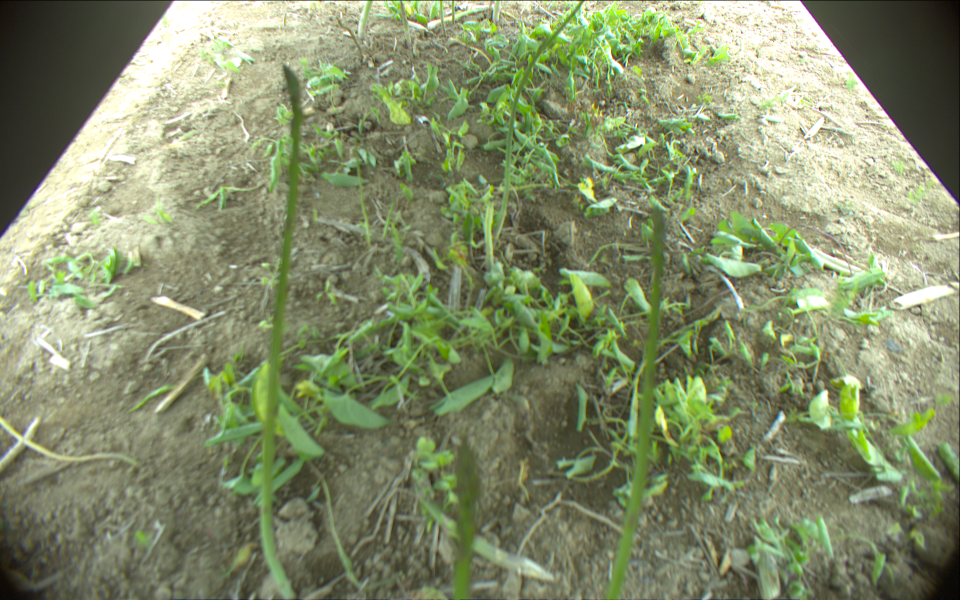aspa: (256, 64, 303, 600), (603, 206, 665, 600), (493, 1, 588, 237), (451, 437, 479, 600), (429, 4, 492, 29), (484, 203, 492, 276), (358, 1, 371, 37), (400, 1, 409, 43), (438, 1, 447, 34), (491, 1, 500, 24), (450, 1, 456, 23)
